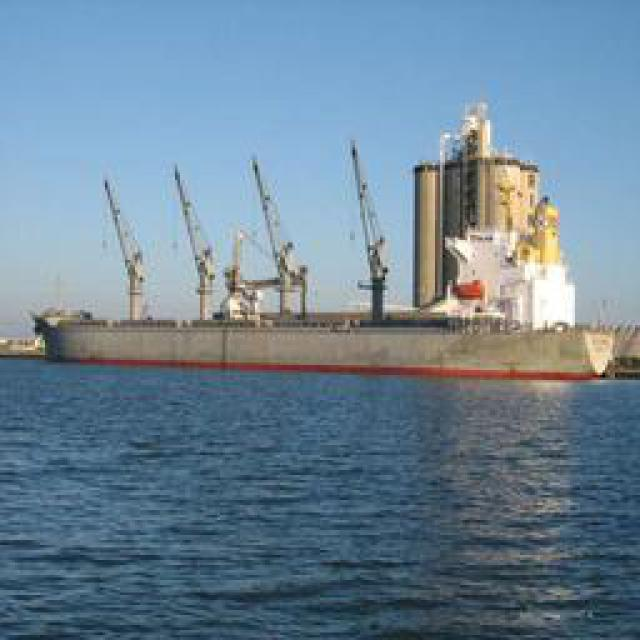Ship: (39, 130, 629, 410)
